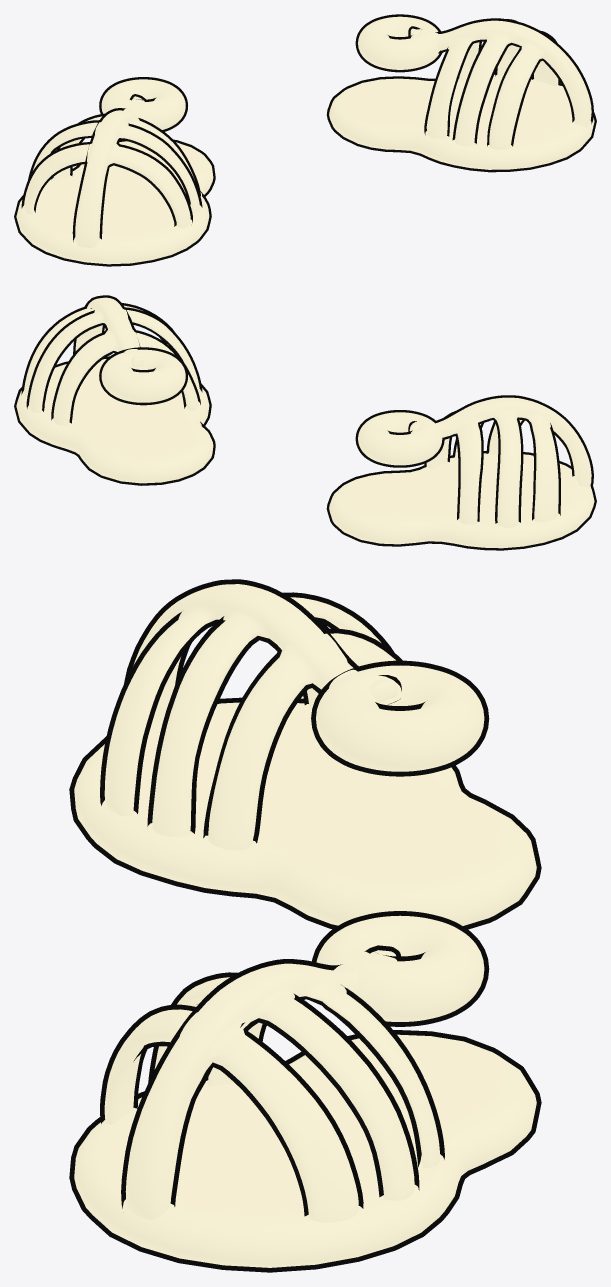
Rendered from SHOES.BIOLOGY.SKELETON.glb.
The picture shows the model from 3 angles, top to bottom: view 1: azimuth 30°, elevation 25°; view 2: azimuth 150°, elevation 25°; view 3: azimuth 270°, elevation 25°; orthographic projection. The views are drawn at different scales.
Visible parts, largest first — view 1: SHOES.BIOLOGY.SKELETON; view 2: SHOES.BIOLOGY.SKELETON; view 3: SHOES.BIOLOGY.SKELETON.
Boxes of the visible parts, x1,y1,x2,y2 form: SHOES.BIOLOGY.SKELETON: (14,14,596,266); SHOES.BIOLOGY.SKELETON: (14,295,596,550); SHOES.BIOLOGY.SKELETON: (69,579,541,1272).
Size of the model in its own units: 2.67 by 0.5313 by 0.9827.
